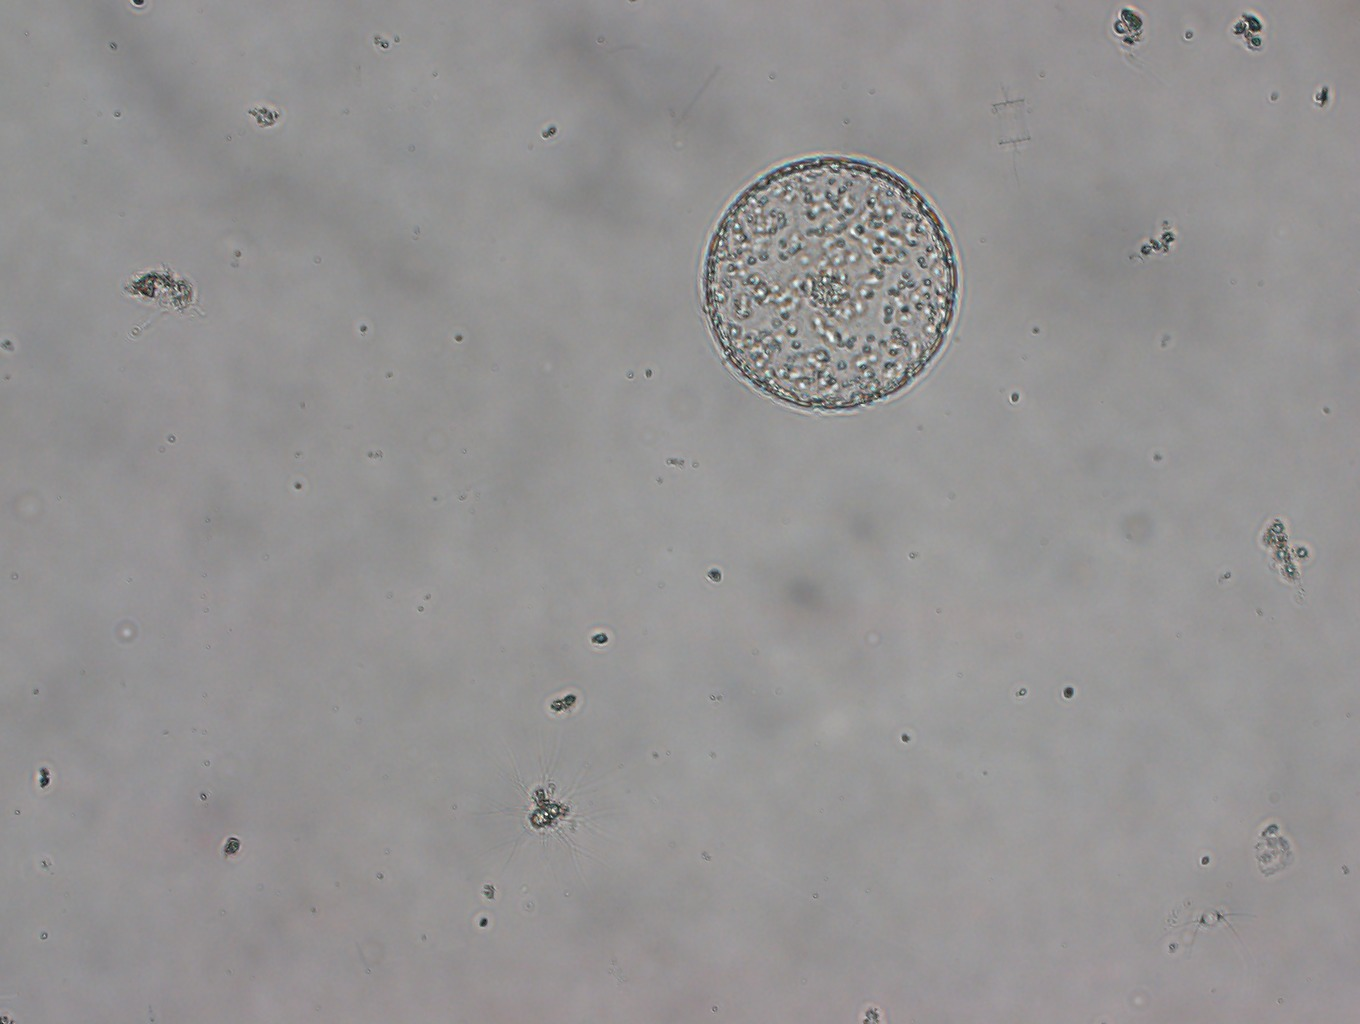coscinodiscus: (700, 153, 960, 413)
